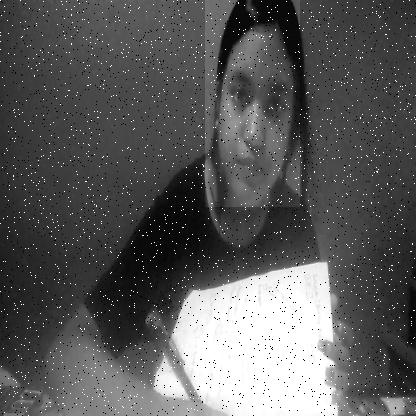Normal: (205, 0, 300, 207)
